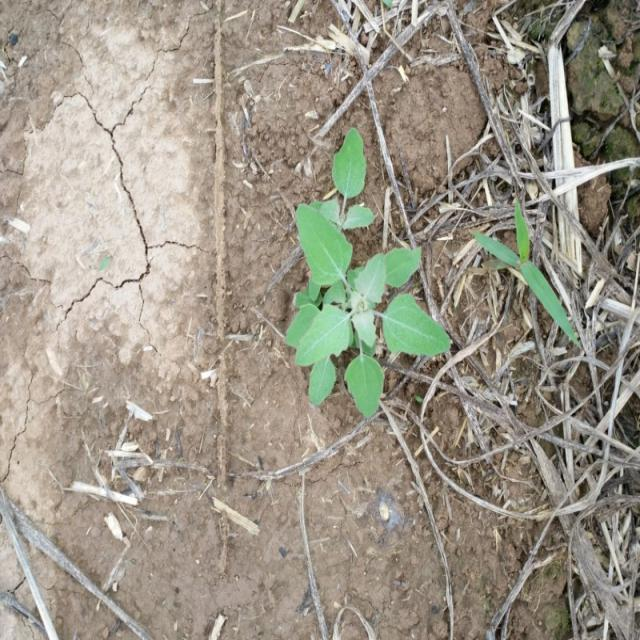goosefoots: (284, 131, 442, 424)
